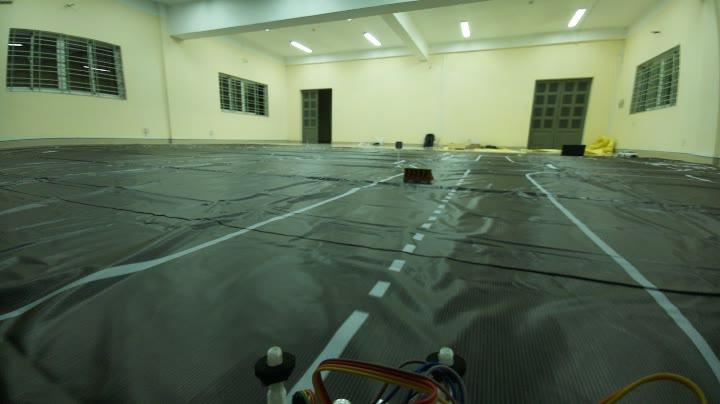roadblock: (400, 164, 439, 190)
